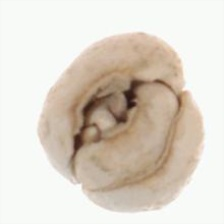L3: (68, 69, 186, 192)
L4: (38, 32, 203, 213)
